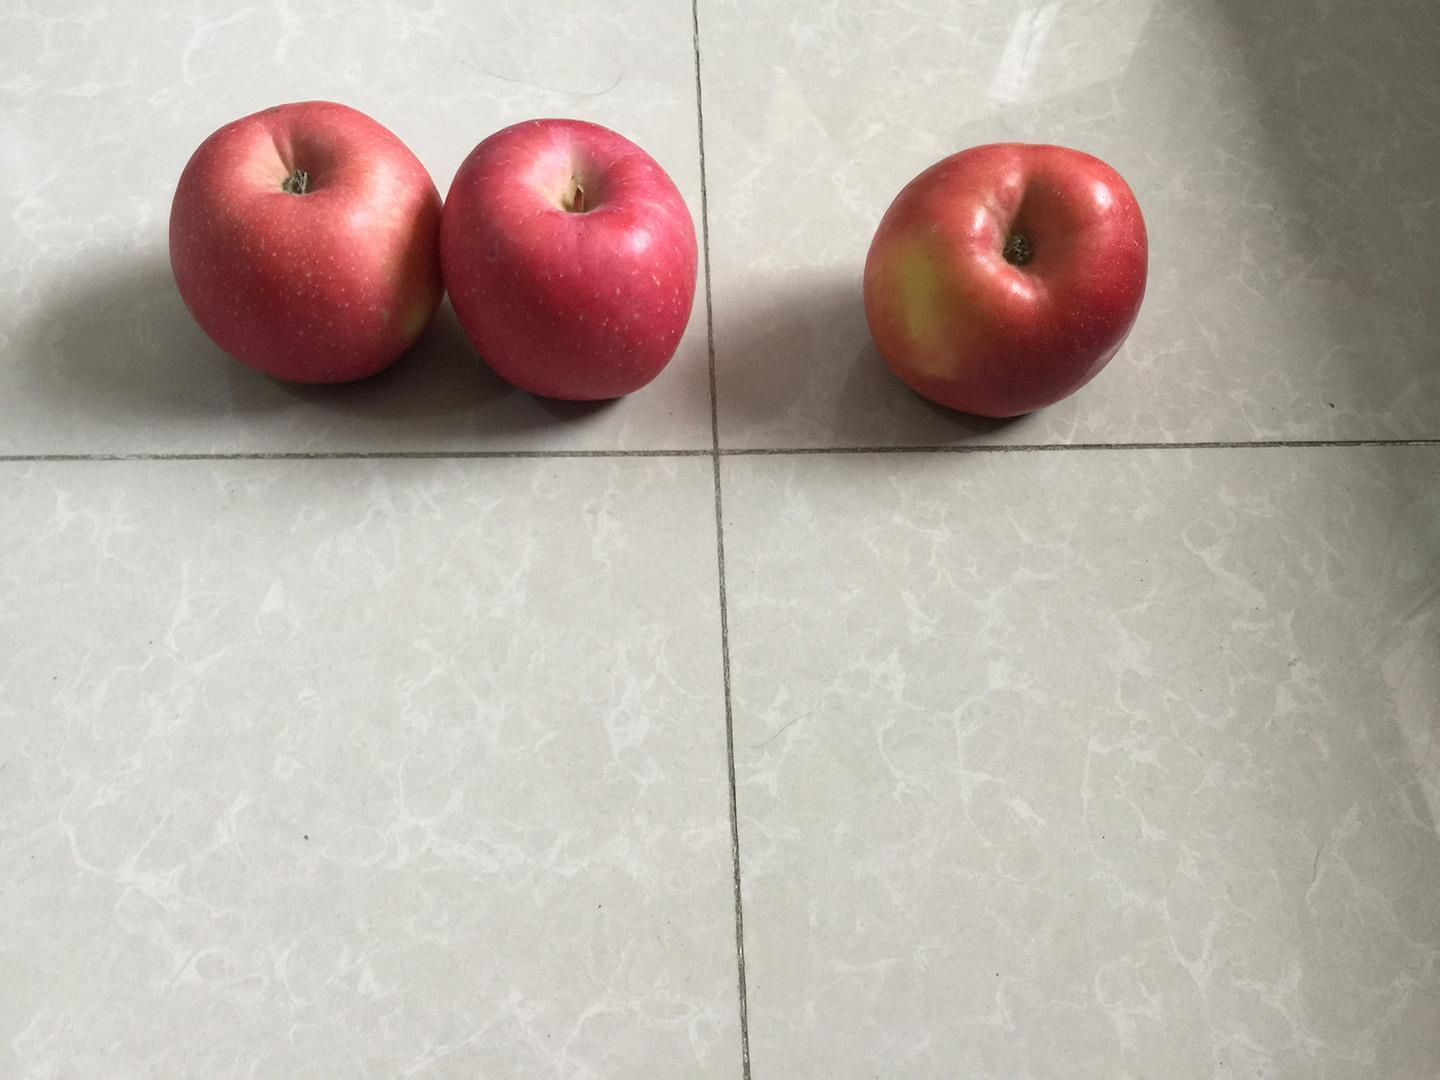apple: (163, 90, 454, 389), (854, 136, 1153, 425), (433, 112, 706, 410)
